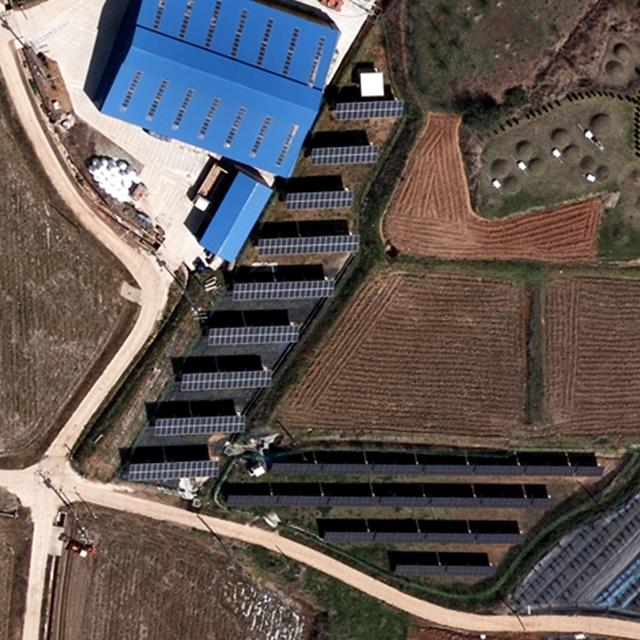panel: (229, 278, 338, 303), (148, 415, 250, 439), (122, 460, 226, 483), (177, 369, 275, 393), (204, 324, 302, 347), (256, 234, 361, 253), (281, 187, 353, 213), (335, 97, 405, 121), (310, 144, 381, 165), (322, 459, 373, 478), (267, 458, 323, 475), (373, 459, 423, 478), (321, 530, 376, 547), (443, 563, 499, 579), (371, 531, 426, 547), (425, 531, 476, 548), (476, 531, 529, 547), (479, 495, 532, 511), (428, 494, 482, 508), (421, 462, 475, 476), (225, 494, 279, 508), (523, 463, 576, 477), (279, 493, 328, 508), (474, 463, 526, 477), (328, 494, 380, 508), (396, 563, 444, 577), (378, 495, 430, 507), (575, 462, 606, 477), (531, 496, 556, 509)
